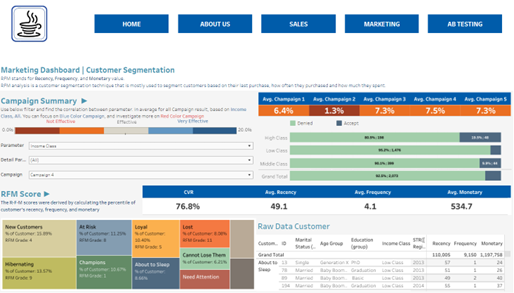

This screenshot's page, from the dashboard's own definition file:
{"tool":"tableau","page":{"name":"Marketing Dashboard","canvas":[1366,768],"ordinal":3},"visuals":[{"type":"image","param":"C:/Users/artanggoro/Downloads/PACMANN PLBI 2 - JAVA TEAM ECOMMERCE.twb Files/Ima","box":[0,0,1366,768]},{"type":"dashboard-object","box":[250,33,216,72]},{"type":"dashboard-object","box":[466,33,216,72]},{"type":"dashboard-object","box":[682,33,216,72]},{"type":"dashboard-object","box":[898,33,215,72]},{"type":"dashboard-object","box":[1113,33,215,72]},{"type":"text","box":[15,170,1330,69]},{"type":"worksheet","title":"Campaign Summary","mark":"Automatic","box":[15,239,663,86]},{"type":"worksheet","title":"Campaign# Result","mark":"Square","box":[682,239,663,70]},{"type":"text","box":[474,308,85,25]},{"type":"text","box":[132,309,85,25]},{"type":"blank","box":[682,309,79,30]},{"type":"legend","title":"Correlation Dashboard","param":"[federated.0zfpf1v1nbswhv1cwnwg401refaf].[none:Calculation_1773573880101208098:n","box":[761,309,539,30]},{"type":"text","box":[303,311,85,25]},{"type":"legend","title":"Campaign# Result","param":"[federated.0zfpf1v1nbswhv1cwnwg401refaf].[Multiple Values]","box":[15,325,663,43]},{"type":"worksheet","title":"Correlation Dashboard","mark":"Automatic","rows":["Calculation_1773573880098934817"],"box":[682,339,663,141]},{"type":"parameter","param":"[Parameters].[Parameter 2]","box":[15,368,663,37.3]},{"type":"filter","title":"Campaign# Result","param":"[federated.0zfpf1v1nbswhv1cwnwg401refaf].[none:Calculation_1773573880098934817:n","box":[15,405.3,663,37.3]},{"type":"parameter","param":"[Parameters].[Parameter 1]","box":[15,442.7,663,37.3]},{"type":"text","box":[19,484,367,77]},{"type":"worksheet","title":"RFM Summary","mark":"Automatic","box":[386,484,955,77]},{"type":"worksheet","title":"RFM Segment","mark":"Automatic","box":[19,569,661,192]},{"type":"worksheet","title":"Raw Data Customer","mark":"Automatic","rows":["ID","RFM_F_Code (copy)_1773573880097689632","Calculation_1044835166172557321"],"box":[680,569,661,192]}]}

Visuals, with their boxes in screenshot pixels (x1, y1, x2, y2), scaled from the page's 1366x768 canvas onto the 514x293 screenshot:
image: bbox=[0, 0, 513, 292]
dashboard-object: bbox=[94, 13, 175, 40]
dashboard-object: bbox=[175, 13, 257, 40]
dashboard-object: bbox=[257, 13, 338, 40]
dashboard-object: bbox=[338, 13, 419, 40]
dashboard-object: bbox=[419, 13, 500, 40]
text: bbox=[6, 65, 506, 91]
"Campaign Summary" worksheet: bbox=[6, 91, 255, 124]
"Campaign# Result" worksheet (Square marks): bbox=[257, 91, 506, 118]
text: bbox=[178, 118, 210, 127]
text: bbox=[50, 118, 82, 127]
blank: bbox=[257, 118, 286, 129]
"Correlation Dashboard" legend: bbox=[286, 118, 489, 129]
text: bbox=[114, 119, 146, 128]
"Campaign# Result" legend: bbox=[6, 124, 255, 140]
"Correlation Dashboard" worksheet: bbox=[257, 129, 506, 183]
parameter: bbox=[6, 140, 255, 155]
"Campaign# Result" filter: bbox=[6, 155, 255, 169]
parameter: bbox=[6, 169, 255, 183]
text: bbox=[7, 185, 145, 214]
"RFM Summary" worksheet: bbox=[145, 185, 505, 214]
"RFM Segment" worksheet: bbox=[7, 217, 256, 290]
"Raw Data Customer" worksheet: bbox=[256, 217, 505, 290]
